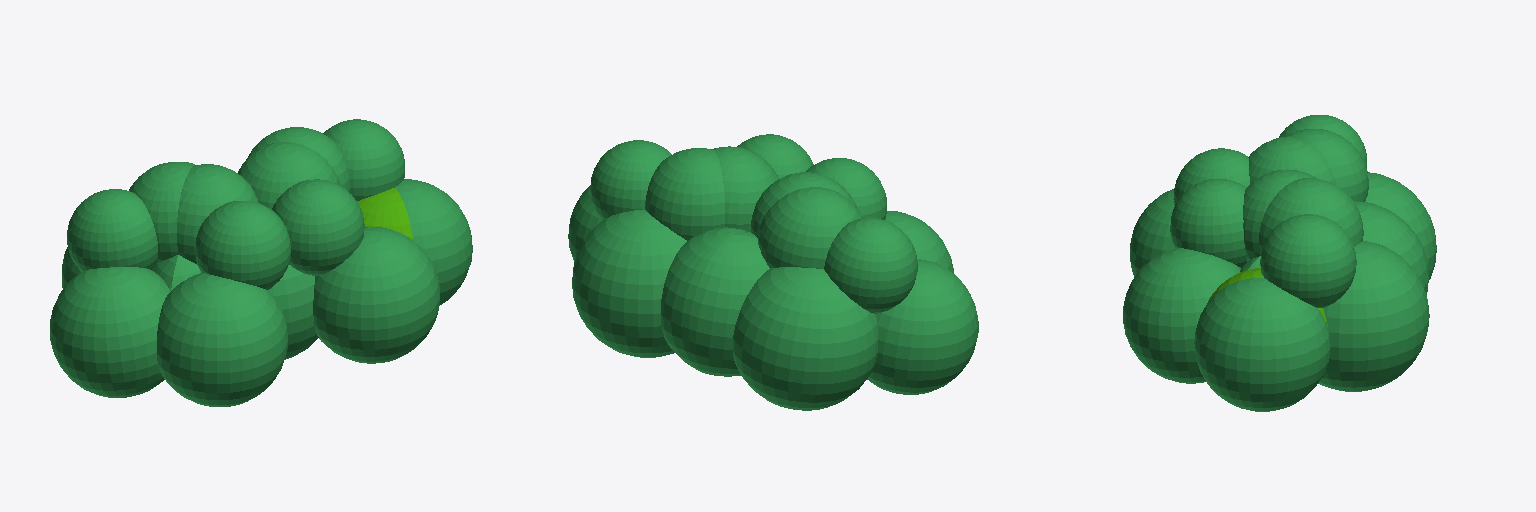
The model's file is bush1.obj.
3 views of the same model, side by side, from view 1: azimuth 30°, elevation 25°; view 2: azimuth 150°, elevation 25°; view 3: azimuth 270°, elevation 25° (orthographic).
Parts seen in each view (by area): view 1: Sphere003, Sphere002; view 2: Sphere003; view 3: Sphere003.
Boxes of the visible parts, <box> form: Sphere003: <box>50,119,472,406</box>; Sphere002: <box>357,188,412,239</box>; Sphere003: <box>568,134,978,410</box>; Sphere003: <box>1123,115,1436,411</box>.
Size of the model in its own units: 35.19 by 16.88 by 23.99.